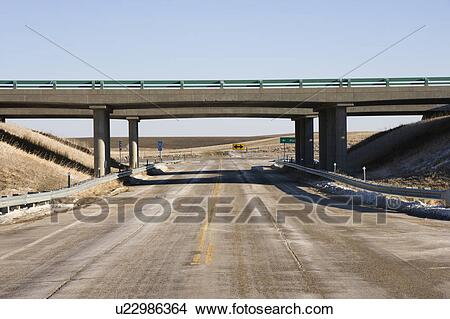bridge: (1, 80, 450, 119)
